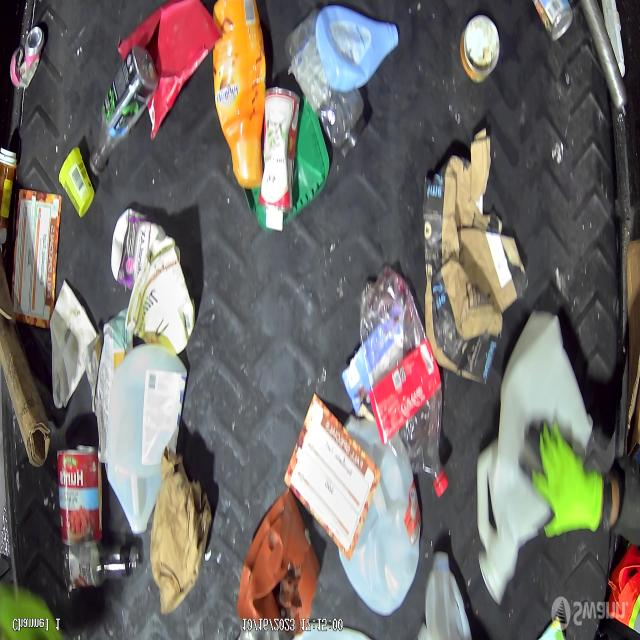can: (58, 436, 103, 548), (458, 10, 501, 89), (8, 25, 49, 92), (531, 0, 582, 47)
milk_jug: (335, 412, 424, 616), (110, 337, 188, 536)
plastic_bottle: (362, 273, 450, 496)
